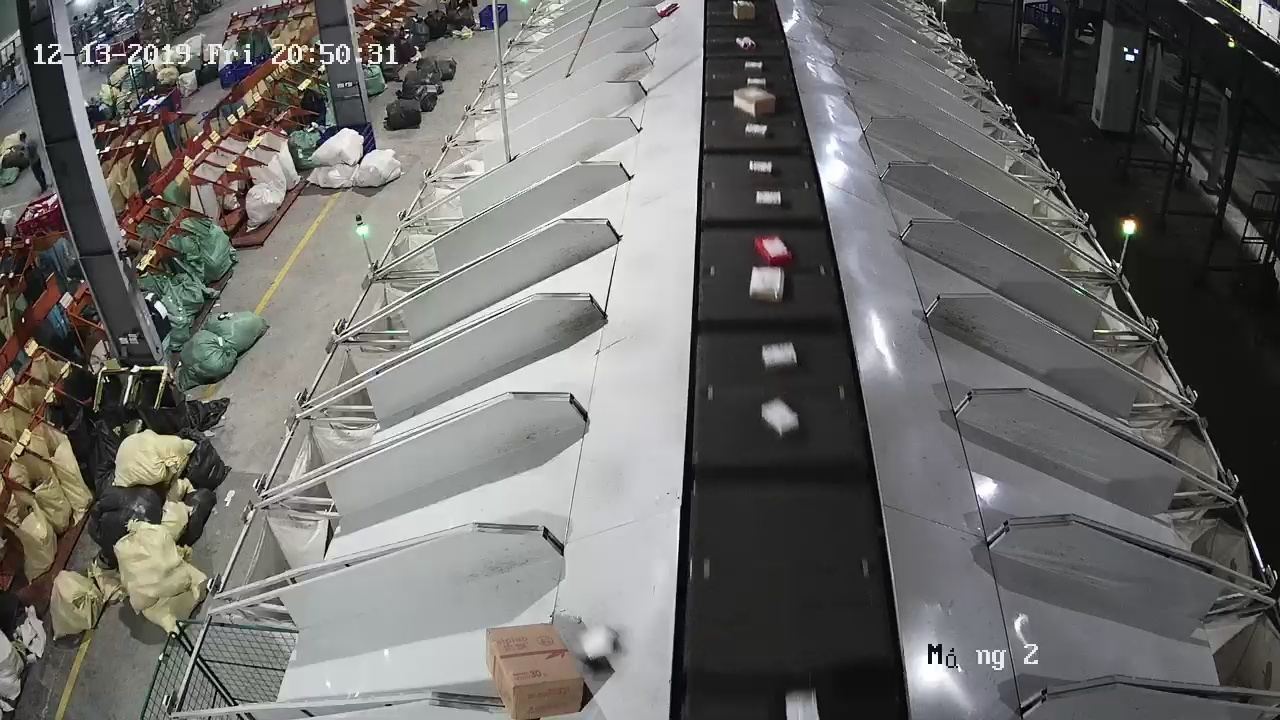parcel: (571, 624, 616, 661)
